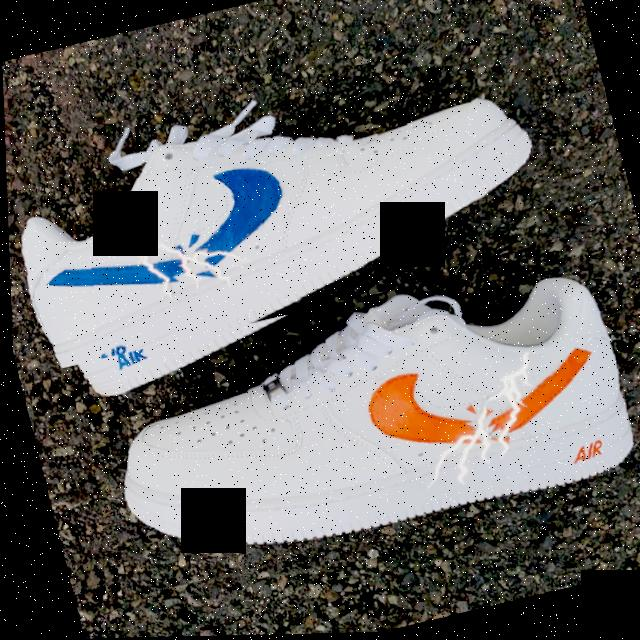shoe: (1, 27, 591, 420), (32, 233, 640, 606)
